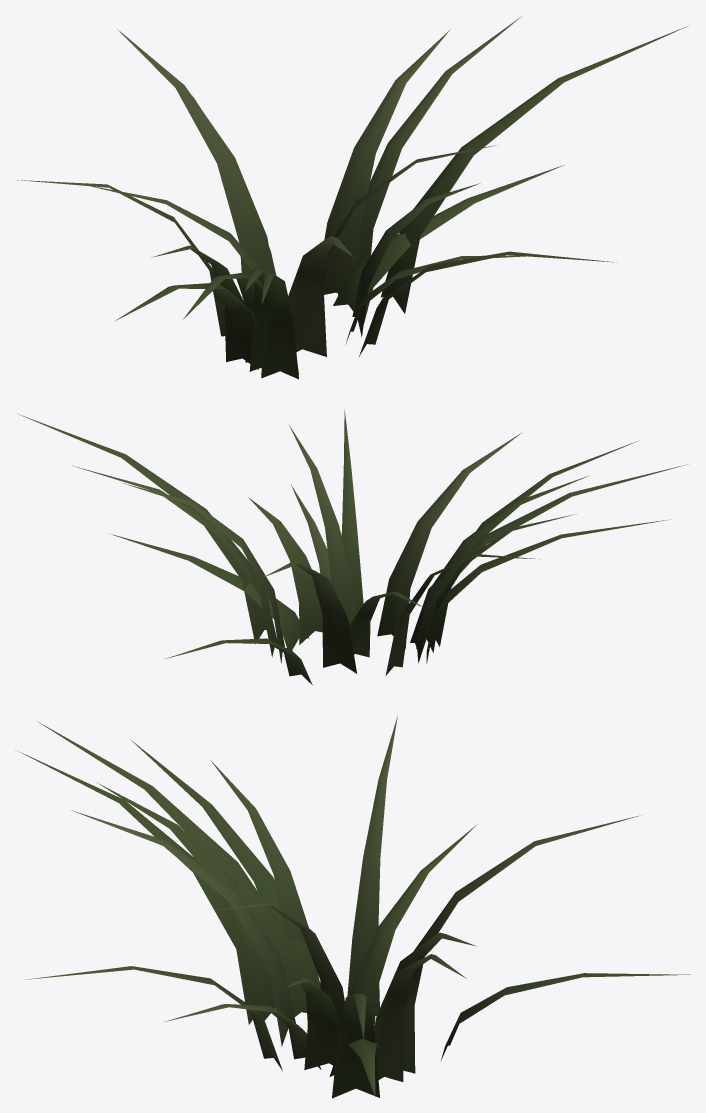
File: grass.glb
3 views of the same model, one above another, from view 1: azimuth 30°, elevation 25°; view 2: azimuth 150°, elevation 25°; view 3: azimuth 270°, elevation 25° (orthographic). The views are drawn at different scales.
Visible parts, largest first — view 1: grass; view 2: grass; view 3: grass.
Boxes of the visible parts, x1,y1,x2,y2 form: grass: (17, 16, 688, 379); grass: (17, 410, 687, 684); grass: (18, 715, 690, 1098).
Size of the model in its own units: 0.403 by 0.1161 by 0.3315.
